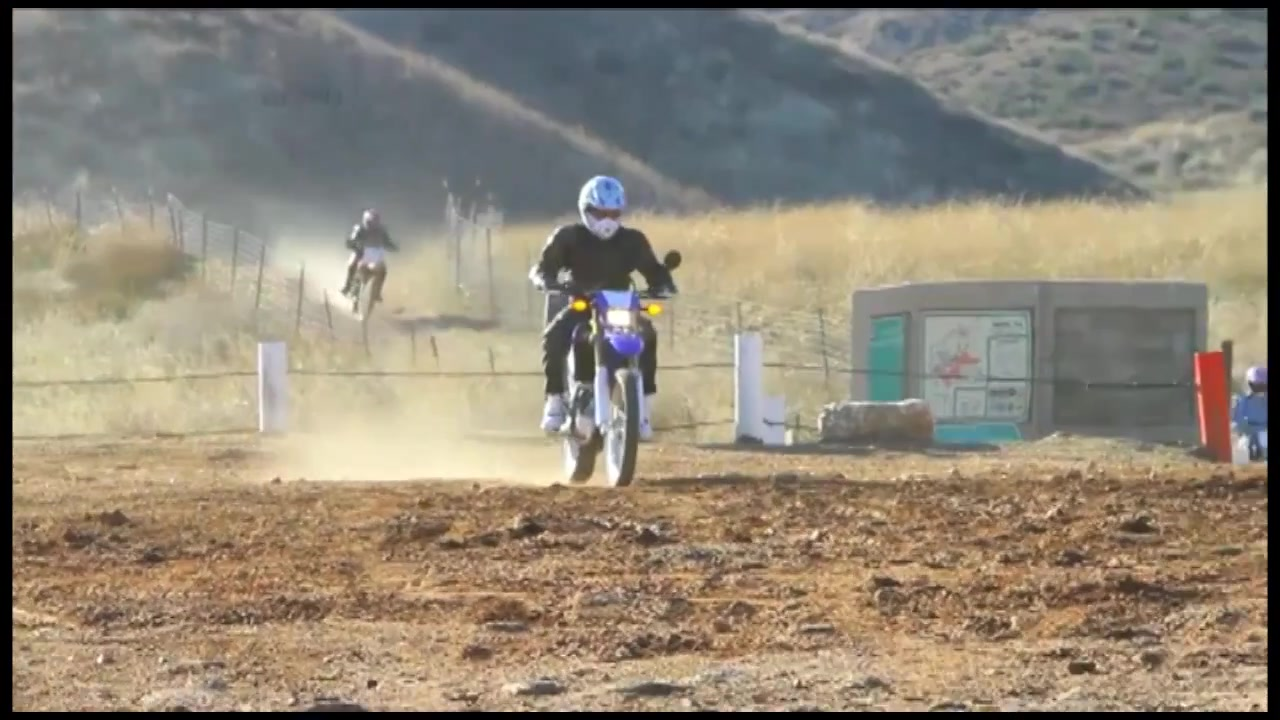motorbike: (538, 250, 683, 492)
